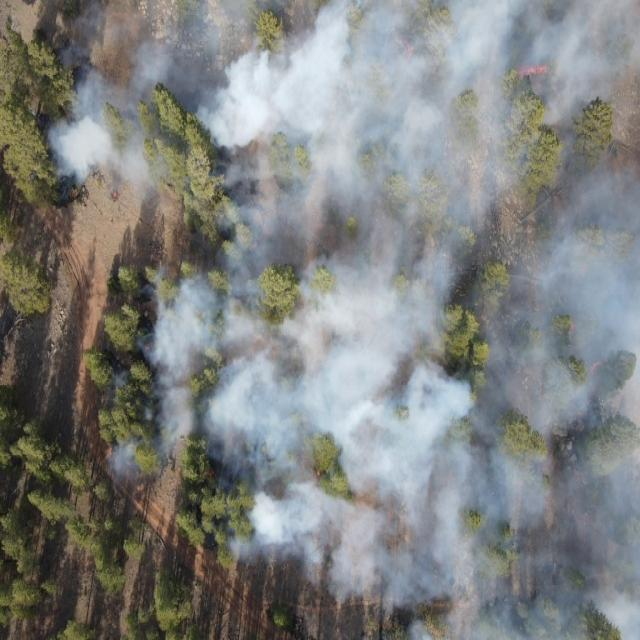fire: (398, 36, 416, 62), (516, 64, 550, 77), (566, 319, 576, 340), (590, 360, 608, 370), (313, 470, 323, 484), (109, 188, 120, 200), (145, 341, 153, 354), (207, 468, 216, 479)
smoke: (42, 1, 640, 200), (388, 201, 640, 640), (255, 201, 388, 567), (140, 269, 254, 485), (302, 566, 390, 606), (212, 200, 255, 269), (224, 507, 254, 568), (104, 438, 140, 484), (105, 368, 134, 392)
